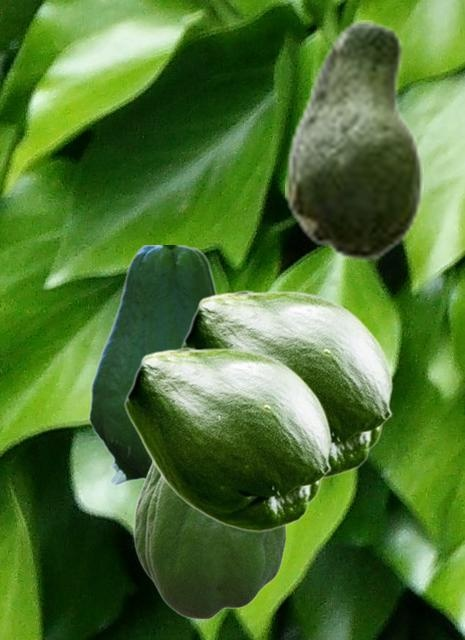sayote: (181, 290, 392, 478), (124, 347, 331, 531), (285, 20, 422, 261), (88, 245, 218, 487), (133, 462, 286, 619)
